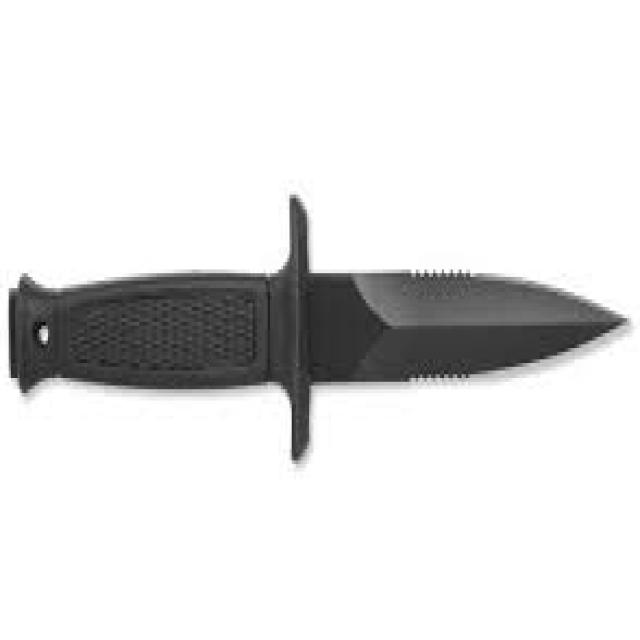knife: (6, 164, 632, 473)
